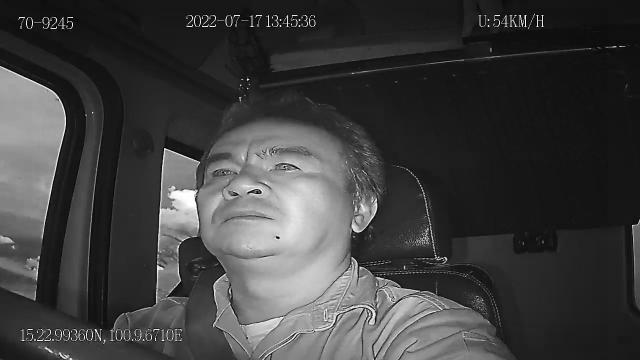SafeDriving: (262, 151, 312, 178), (202, 156, 240, 185)
Seatbelt: (182, 266, 240, 360)
